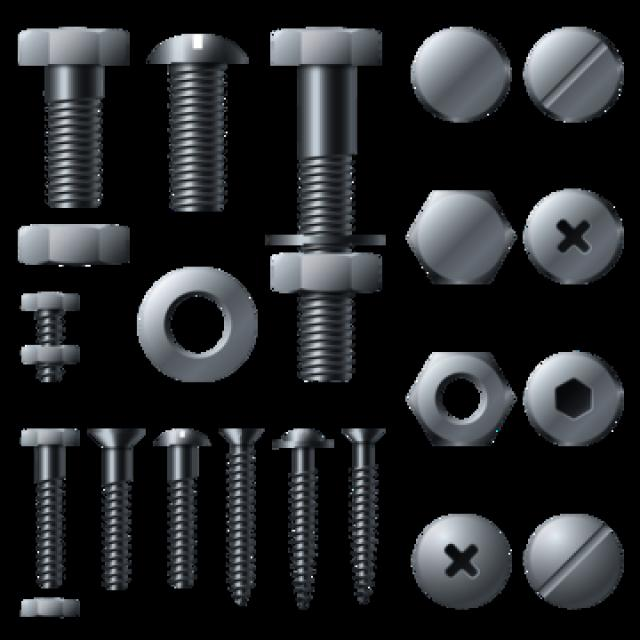Logam: (20, 11, 138, 212)
